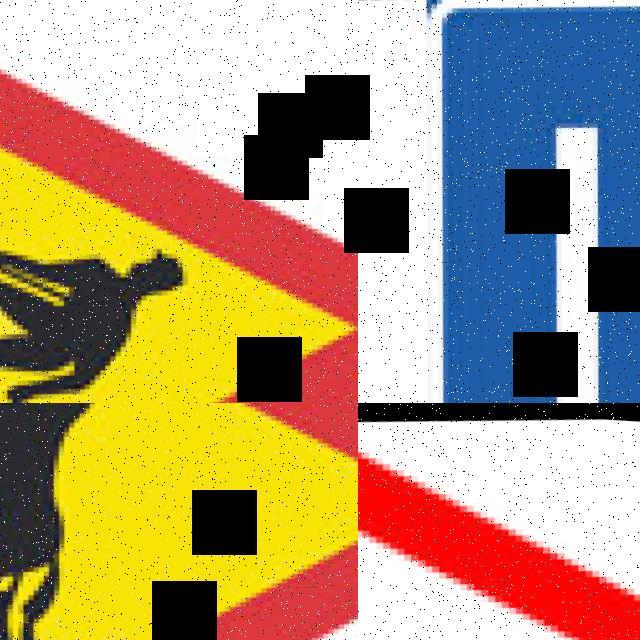141: (0, 403, 358, 640)
156: (0, 0, 358, 403)
21: (393, 0, 640, 403)
School: (358, 403, 640, 640)
